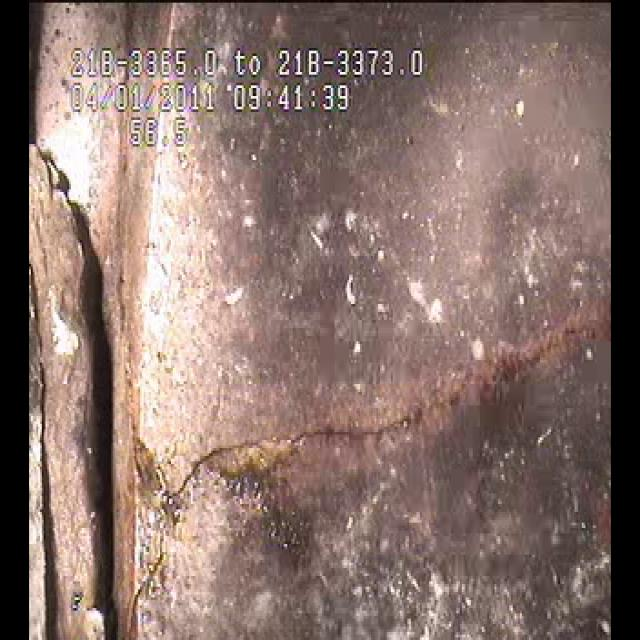Crack: (164, 318, 576, 550)
